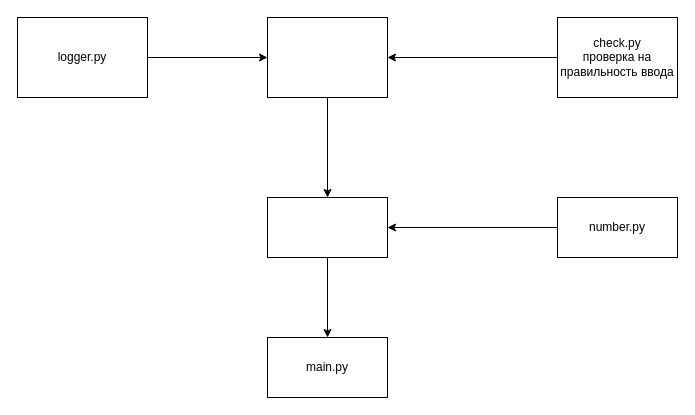
Image size: 695x415. Some labels were removed from this diagram. The shapes that lost their labels are listed below. From the top down, each one's box as (x1, y1, x2, y2) in pixels, then its label:
(266, 16, 388, 98): UI.py куда он попал, что он может сделать. доступ к логам.выход
(266, 196, 388, 258): controler.py
